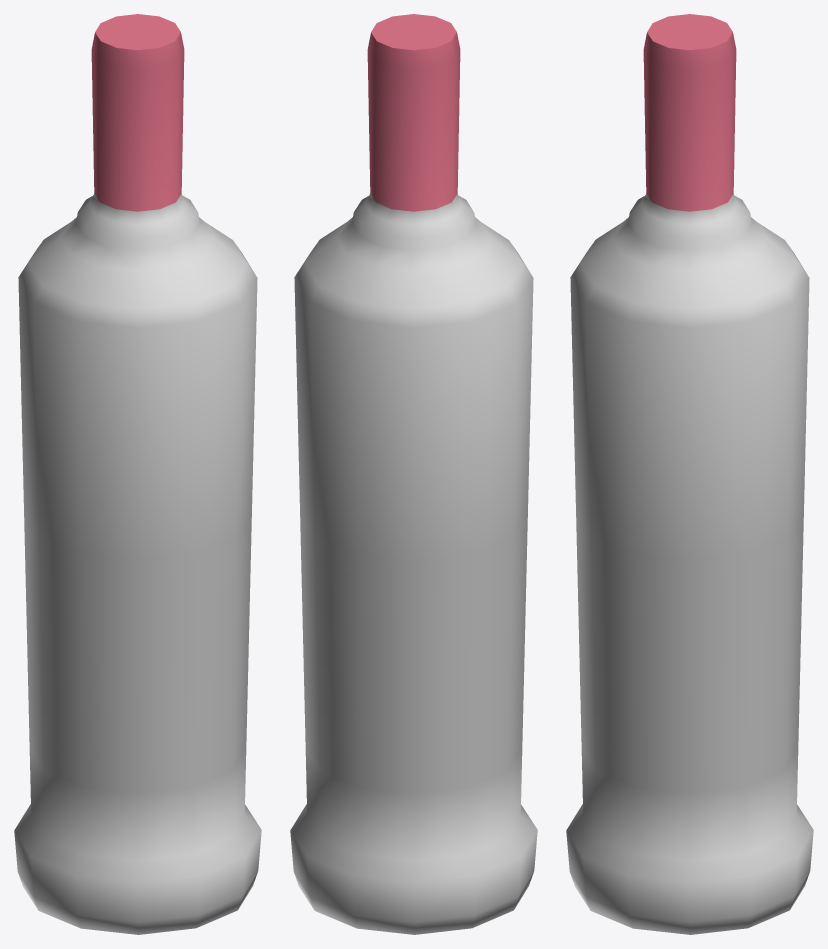
Rendered from Bottle_Vodka.fbx.
3 renders of one model, left to right at view 1: azimuth 30°, elevation 25°; view 2: azimuth 150°, elevation 25°; view 3: azimuth 270°, elevation 25°, orthographic.
Visible parts, largest first — view 1: Bottle_Wodka; view 2: Bottle_Wodka; view 3: Bottle_Wodka.
Boxes of the visible parts, x1,y1,x2,y2 form: Bottle_Wodka: (14, 14, 261, 934); Bottle_Wodka: (290, 14, 537, 934); Bottle_Wodka: (566, 14, 813, 934).
Size of the model in its own units: 8.62 by 32.85 by 8.62.
